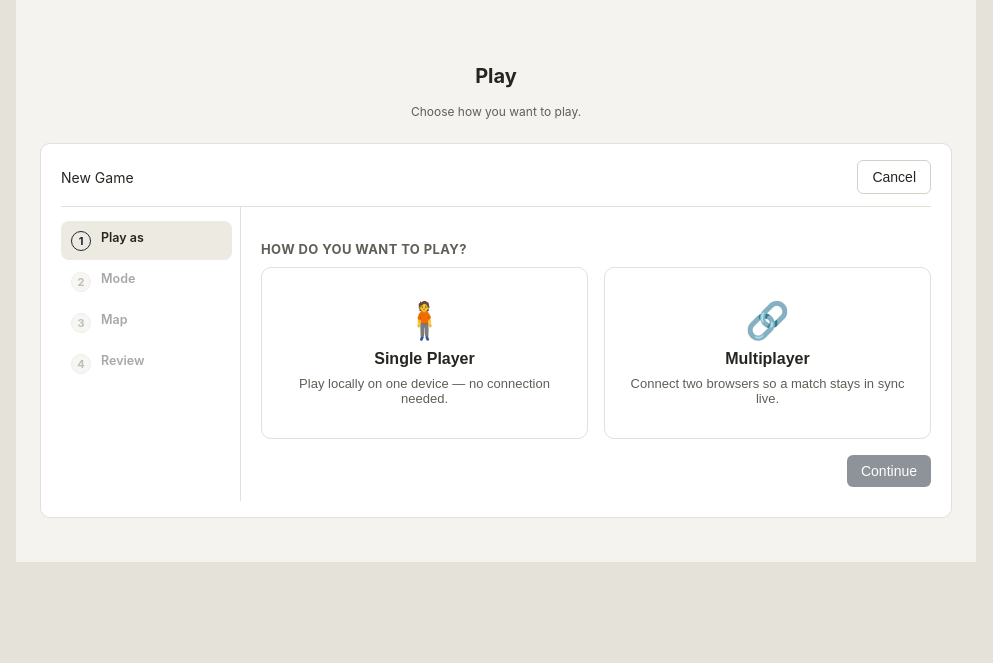
Test case: PlayPage › lists each catalogue manufacturer, then only that manufacturer's default rosters (#198)
What coordinates should you click on to do the following:
click the button "Single Player"
I would click on:
 (424, 353)
Its box is x1=261 y1=267 x2=588 y2=439.
Wait 250 ms
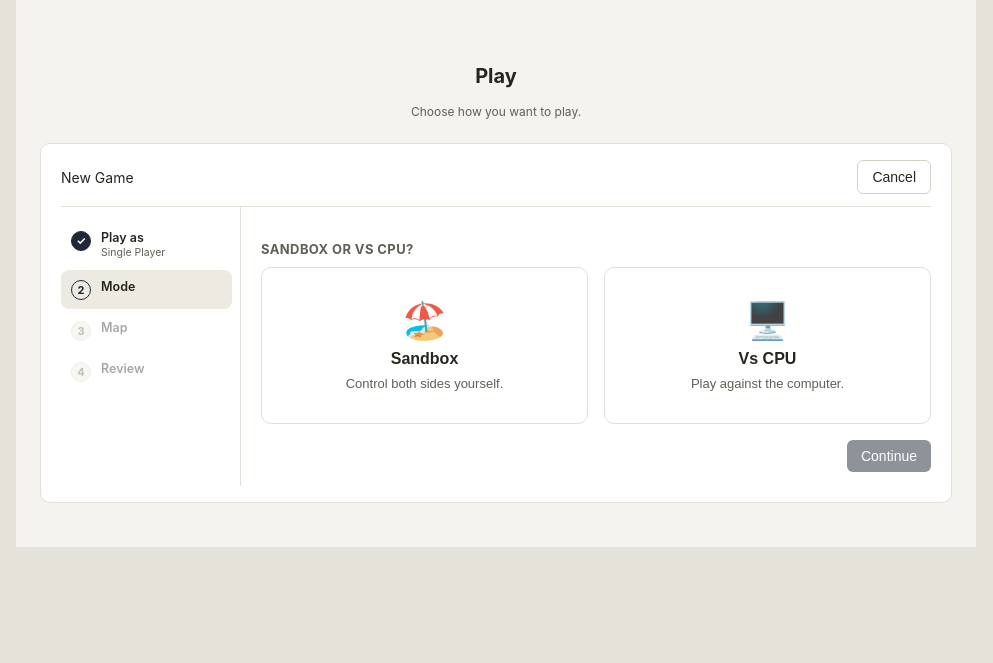
What coordinates should you click on to do the following:
click the button "🖥️ Vs CPU Play against the computer."
I would click on:
 (767, 320)
Its box is x1=604 y1=267 x2=931 y2=424.
Wait 250 ms
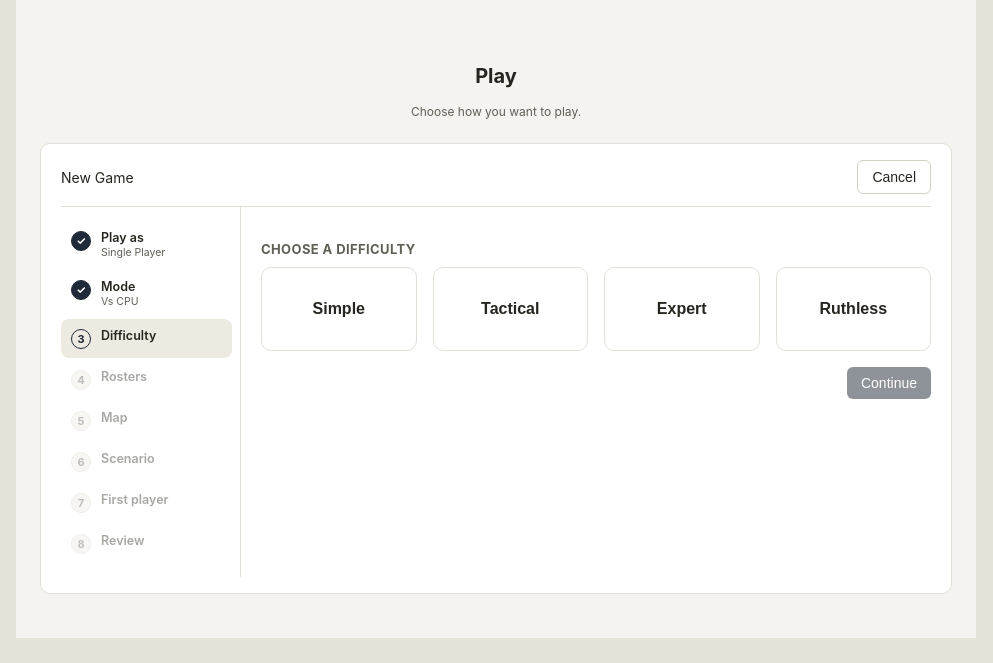
What coordinates should you click on to do the following:
click the button "Simple"
I would click on:
 (339, 309)
Its box is x1=261 y1=267 x2=416 y2=351.
Wait 250 ms
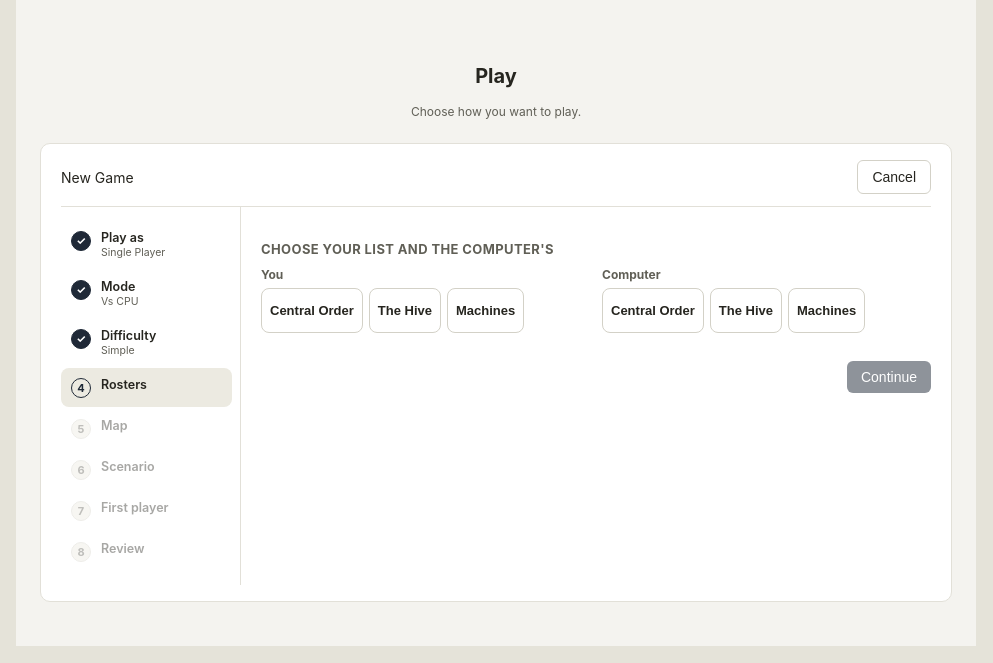
Expected: the text "Default A Corp List" is not shown
Result: the 2nd button "Central Order" is shown at x1=602 y1=288 x2=704 y2=333
Result: the 2nd button "The Hive" is shown
What coordinates should you click on to do the following:
click the 2nd button "The Hive"
I would click on:
 (746, 310)
Its box is x1=710 y1=288 x2=782 y2=333.
Wait 250 ms
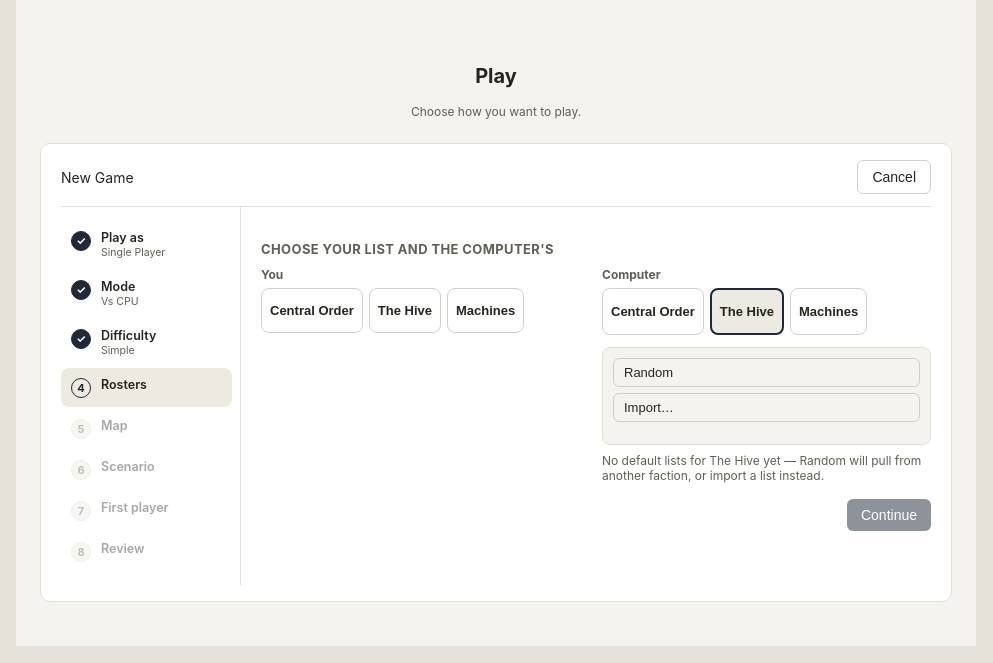
Result: the button "Random" is shown at x1=613 y1=358 x2=920 y2=387
Result: the button "Import…" is shown at x1=613 y1=393 x2=920 y2=422
Result: the text "No default lists for The Hive yet" is shown at x1=602 y1=453 x2=931 y2=483
What coordinates should you click on to do the following:
click the 2nd button "Central Order"
I would click on:
 (653, 312)
Its box is x1=602 y1=288 x2=704 y2=335.
Wait 250 ms
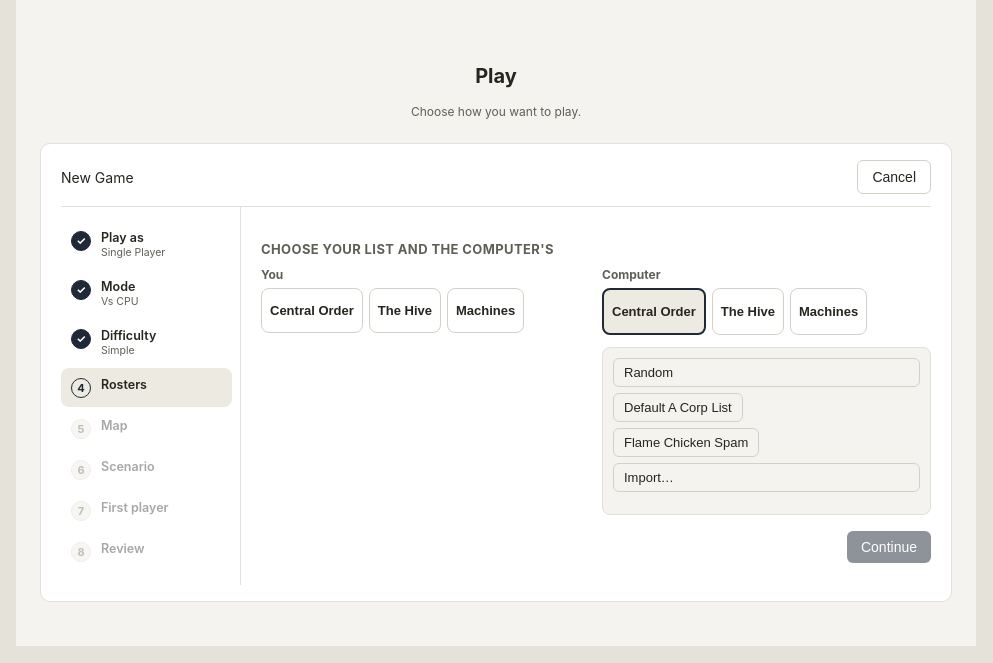
Result: the button "Default A Corp List" is shown at x1=613 y1=393 x2=743 y2=422
Result: the button "Flame Chicken Spam" is shown at x1=613 y1=428 x2=759 y2=457
